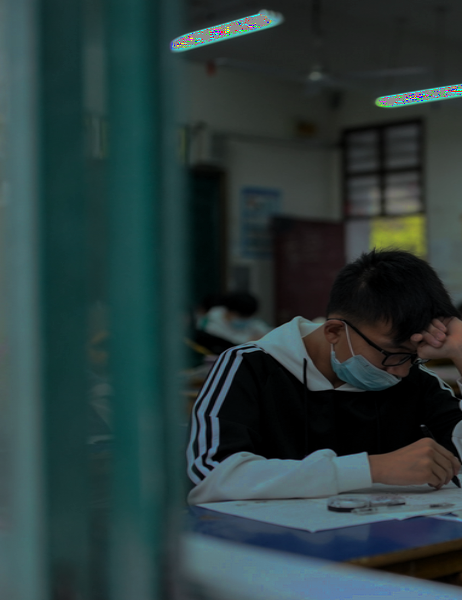mask_weared_incorrect: (332, 254, 439, 391)
